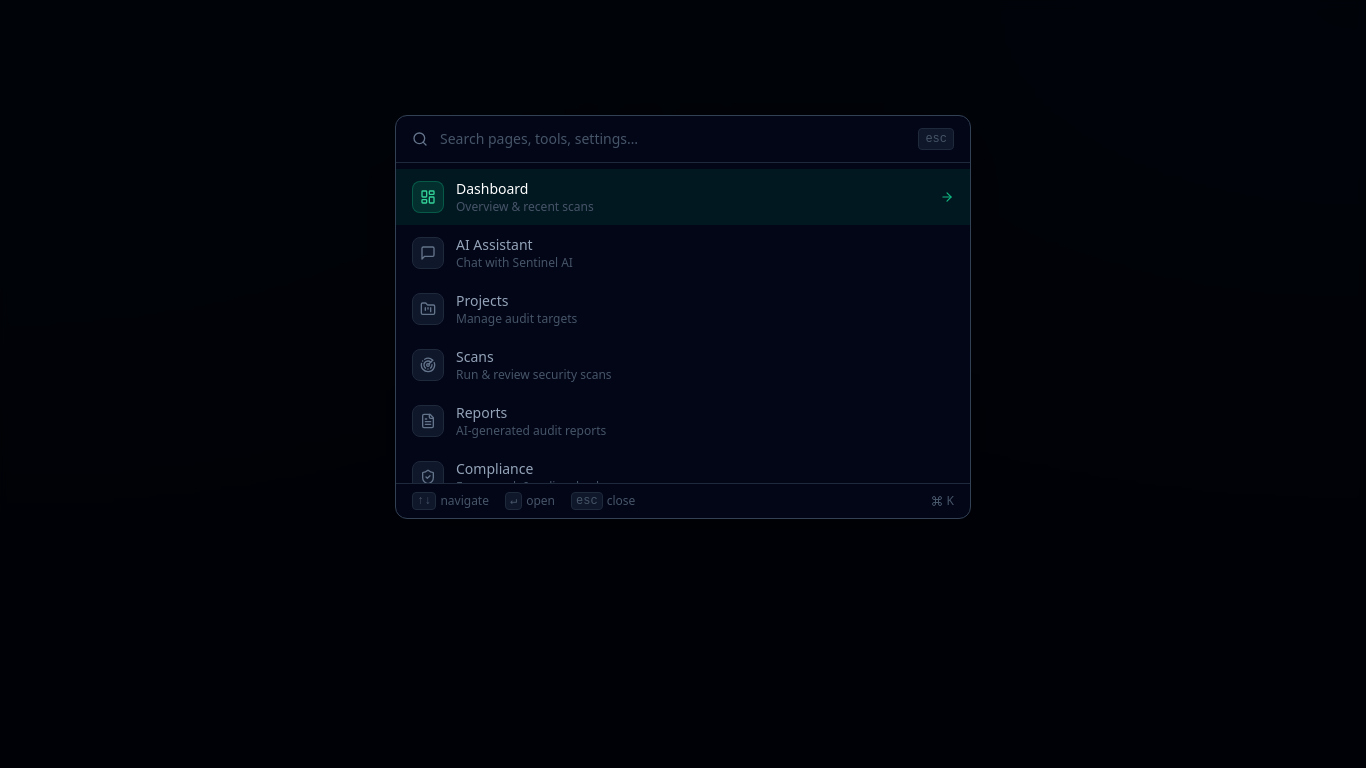
it: CommandPalette — filtering › can filter by generic keyword (home → Dashboard)
Type "home" into the field with placeholder "Search pages, tools, settings…".
click(673, 139); type("home")  # box top-left (440, 129), bottom-right (906, 149)
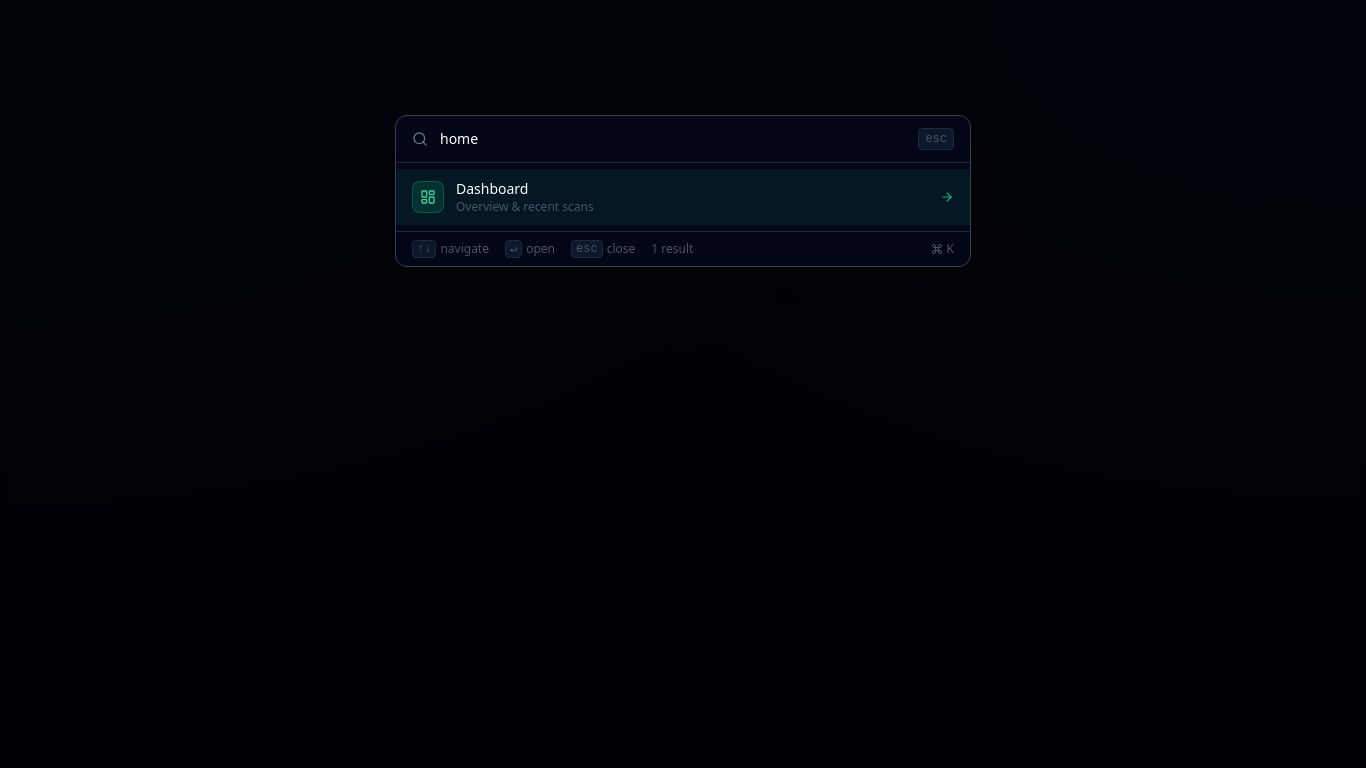
Check: the text "Dashboard" is shown, box top-left (456, 179), bottom-right (528, 198)
Check: the button "AI Assistant" is gone
